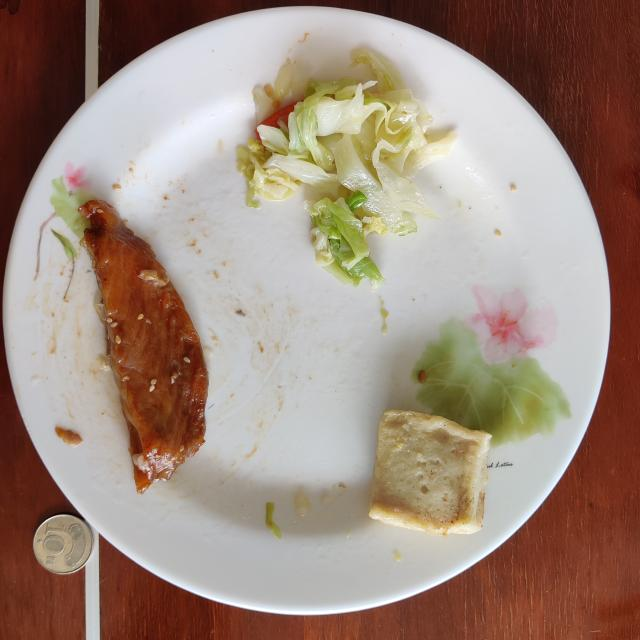Kabayaki sea bream fillet: (79, 200, 209, 494)
cabbage: (238, 48, 458, 289)
coin: (34, 515, 92, 574)
creamy tofu -without sauce-: (369, 410, 491, 535)
